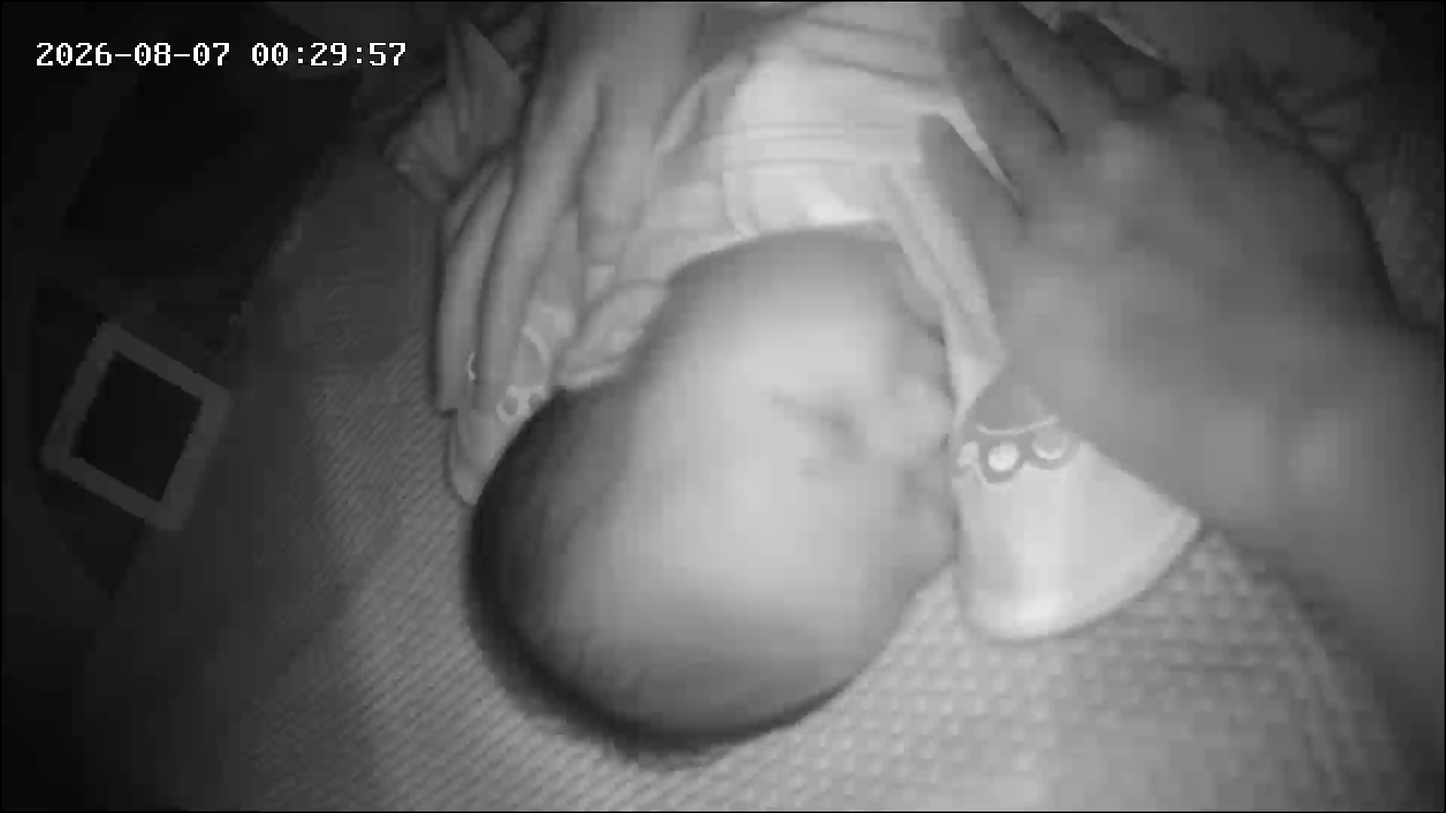baby: (450, 0, 1249, 781)
baby_face: (456, 219, 972, 743)
